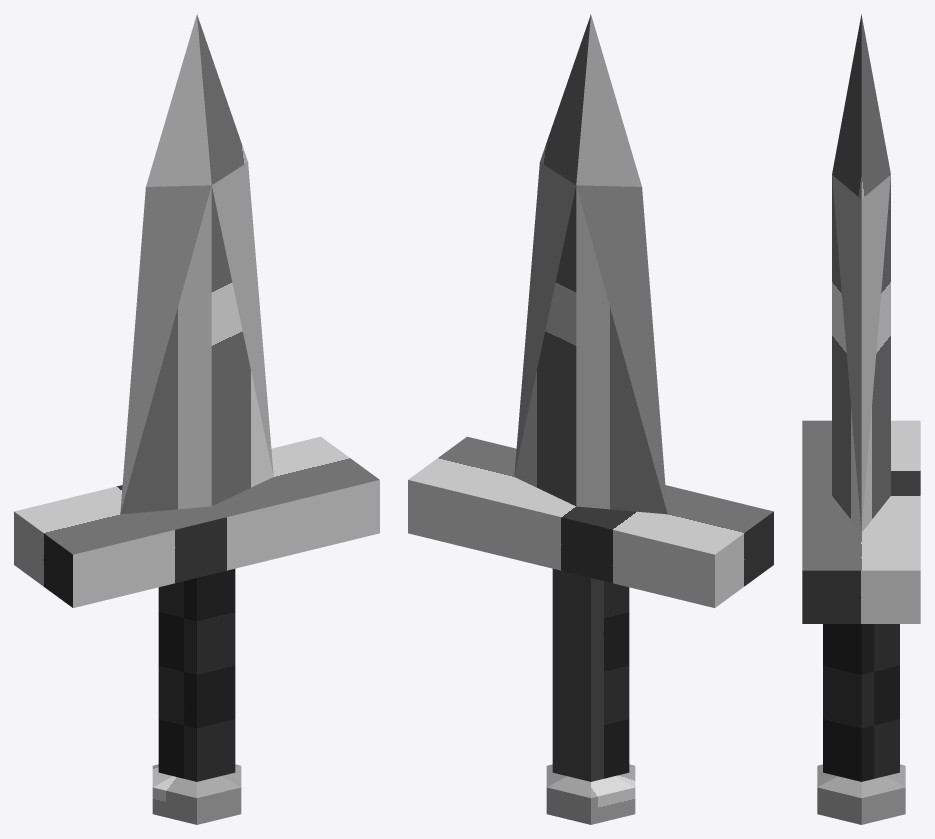
File: daggger.glb
3 views of the same model, side by side, from view 1: azimuth 30°, elevation 25°; view 2: azimuth 150°, elevation 25°; view 3: azimuth 270°, elevation 25° (orthographic).
Parts seen in each view (by area): view 1: blade, guard, grip, pommel; view 2: blade, guard, grip, pommel; view 3: blade, guard, grip, pommel.
Part boxes in pixels (x1,y1,x2,y2): blade: [120, 14, 273, 514]; guard: [14, 436, 379, 607]; grip: [158, 569, 235, 781]; pommel: [152, 764, 241, 824]; blade: [514, 14, 667, 514]; guard: [408, 436, 773, 607]; grip: [552, 569, 629, 781]; pommel: [546, 764, 635, 824]; blade: [832, 14, 890, 532]; guard: [802, 420, 920, 623]; grip: [823, 624, 899, 781]; pommel: [817, 764, 905, 824].
Size of the model in its own units: 0.375 by 0.9375 by 0.125.
Materials: 4 (4 with a texture image).
